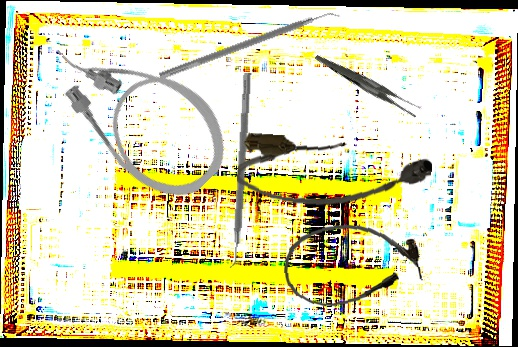Cannula: (36, 6, 247, 218), (235, 131, 434, 216), (280, 218, 425, 311)
Dressing Forceps: (314, 28, 424, 140)
Spatula Surgical: (158, 4, 343, 88), (224, 72, 252, 269)
